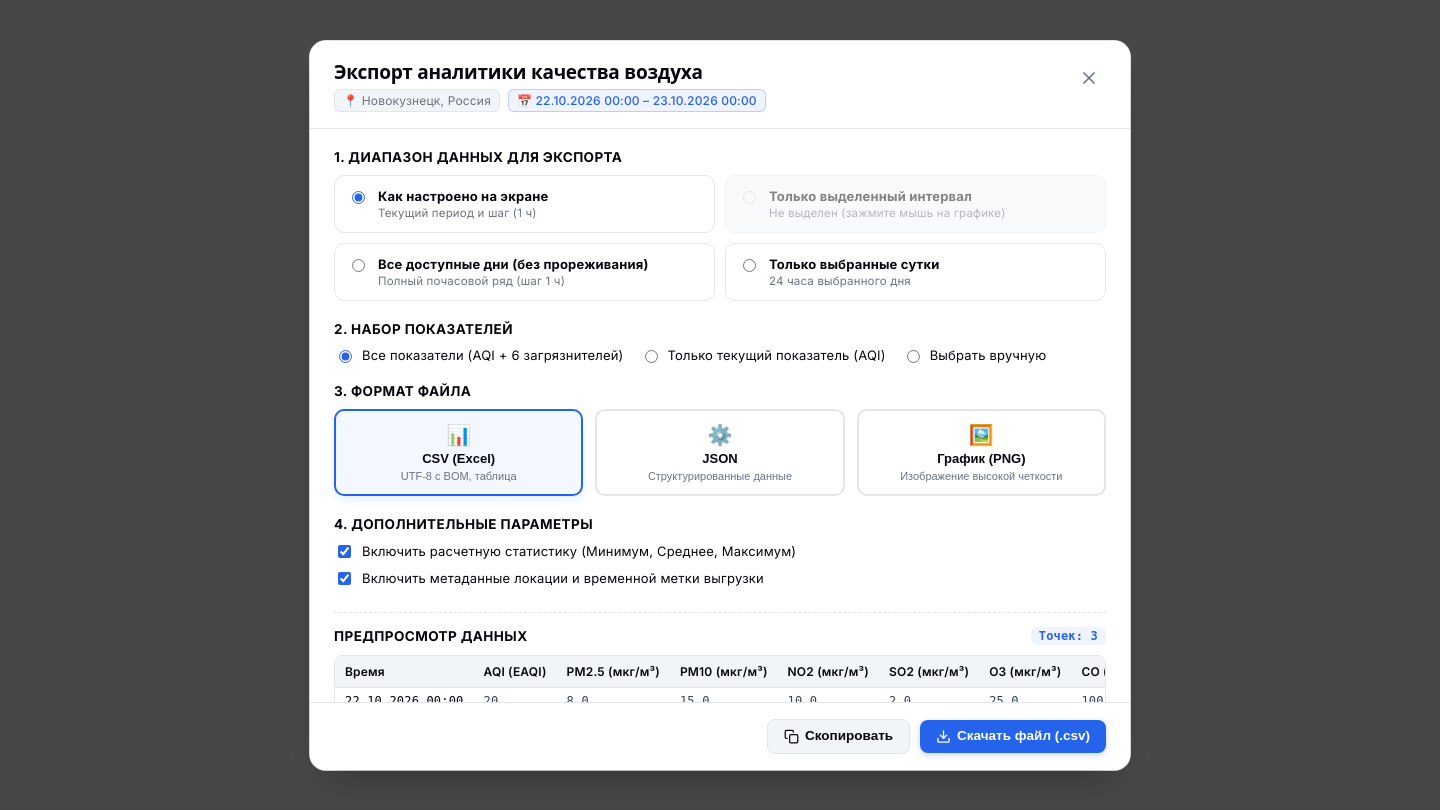
Test: AnalyticsExportModal component › switches export formats (CSV, JSON, PNG) and shows corresponding preview
Later steps or results of the test are not shown.
Click the button with test id "format-btn-json".
click(720, 452)  # box x1=595 y1=409 x2=845 y2=496
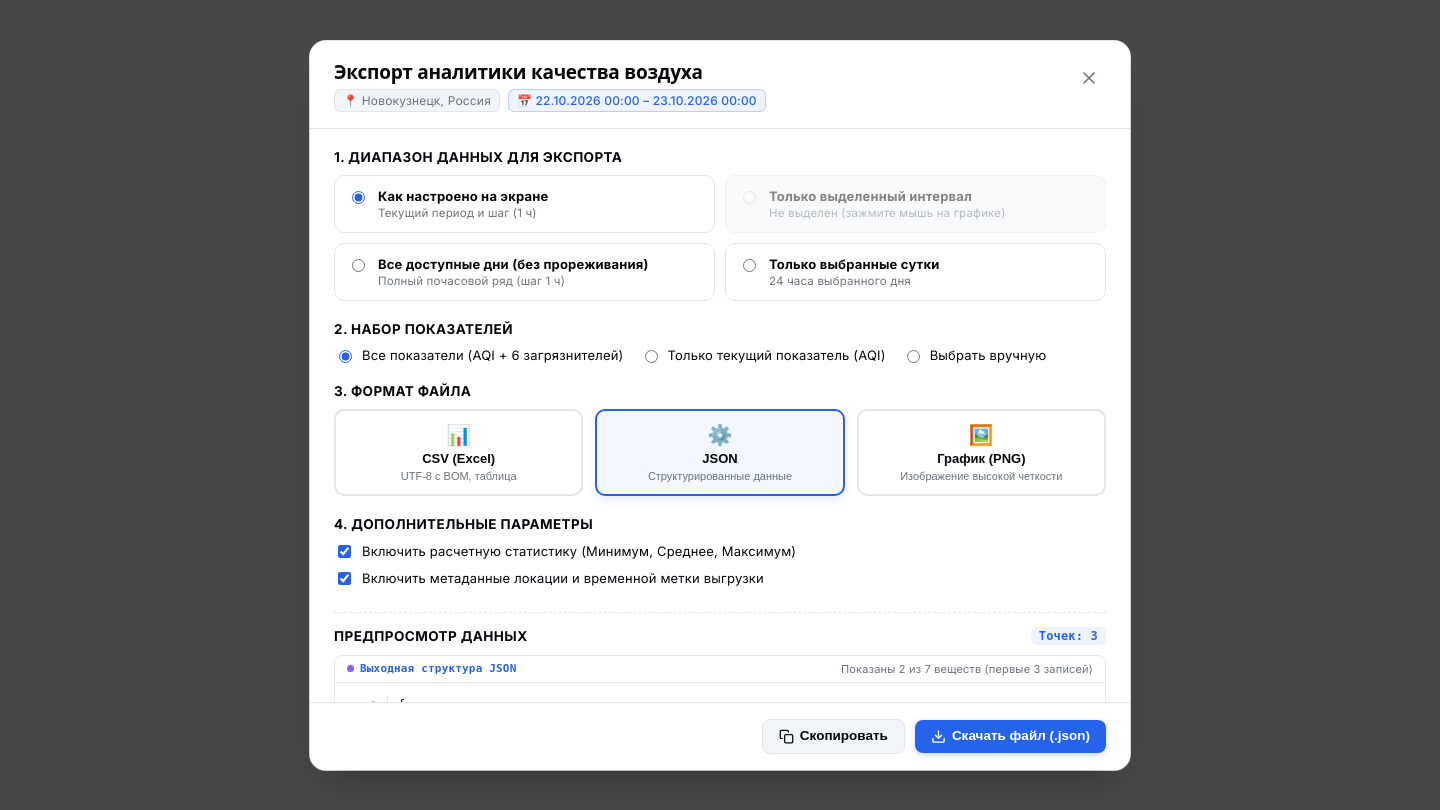
Expected: the button with test id "download-export-btn" shows ".json", x1=915 y1=720 x2=1106 y2=752
Expected: the table with test id "preview-table" is gone
Click the button with test id "format-btn-png".
click(981, 452)  # box x1=857 y1=409 x2=1106 y2=496
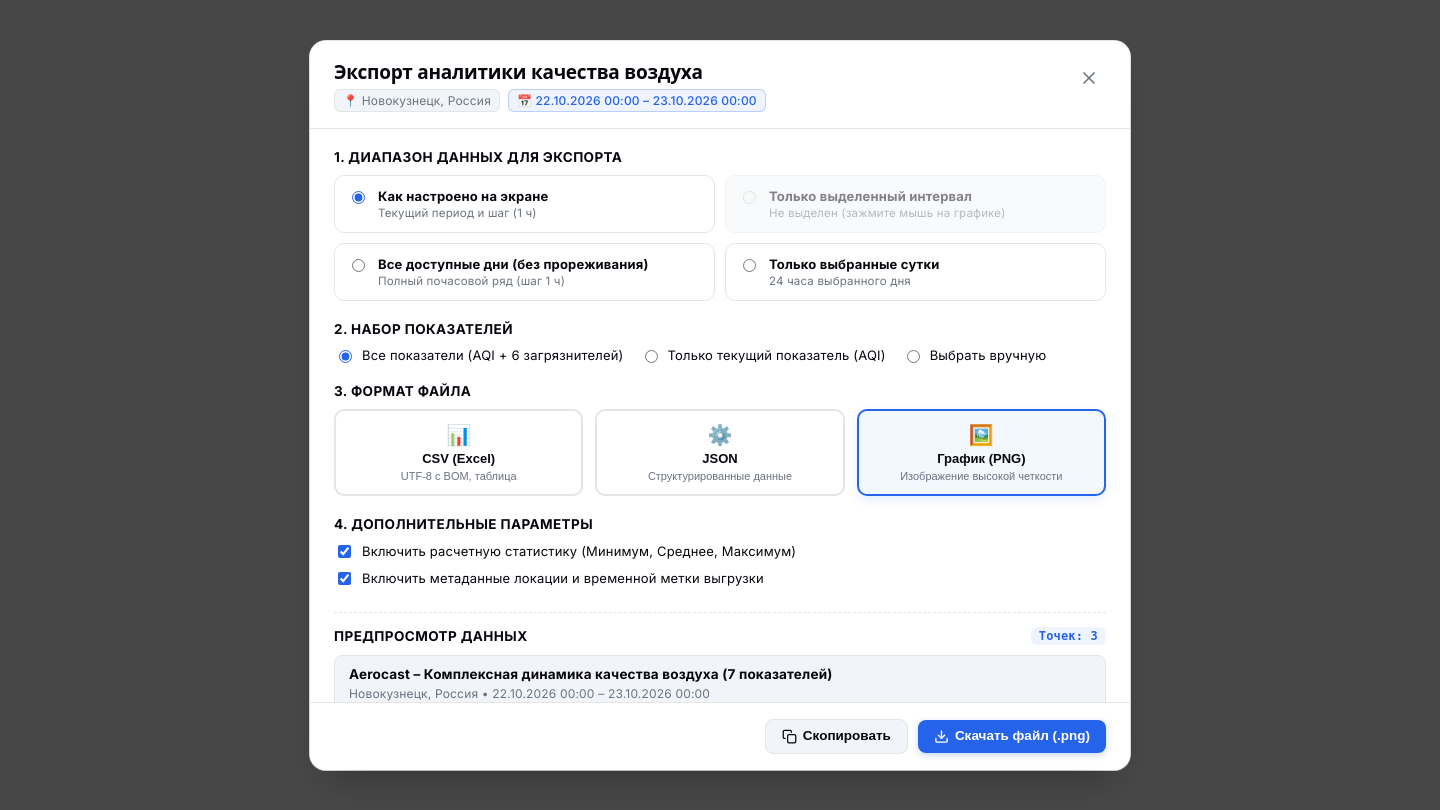
Expected: the button with test id "download-export-btn" shows ".png", x1=918 y1=720 x2=1106 y2=752
